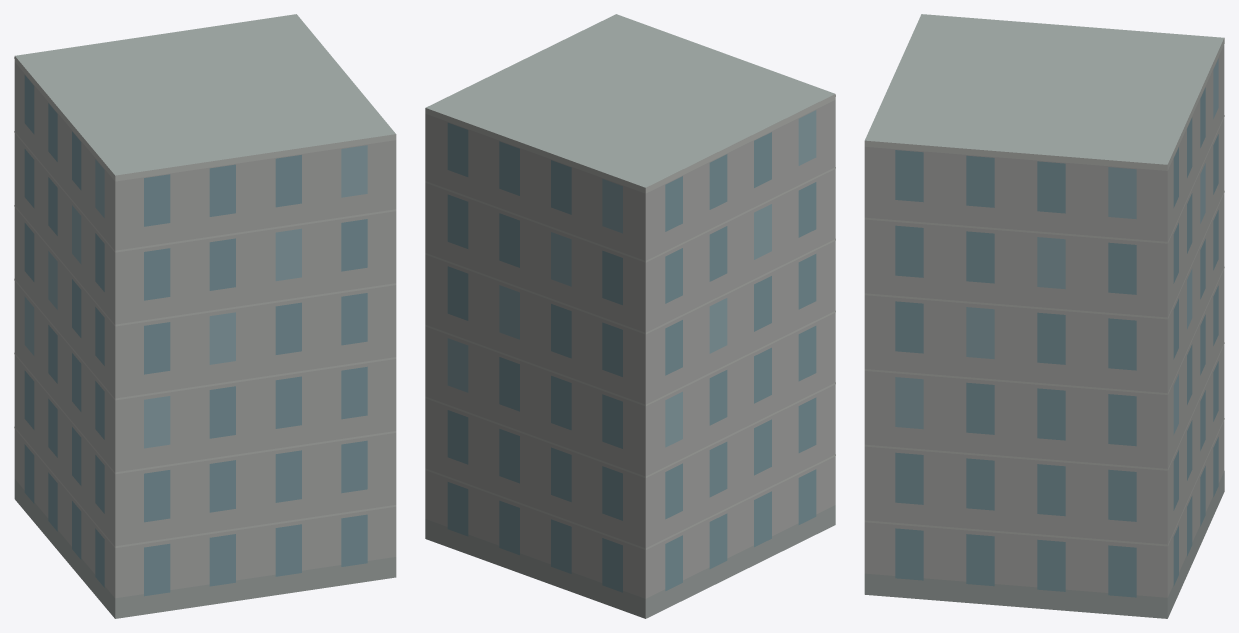
The model's file is survey-upis-32930243.glb.
The picture shows the model from 3 angles, left to right: view 1: azimuth 30°, elevation 25°; view 2: azimuth 150°, elevation 25°; view 3: azimuth 270°, elevation 25°; orthographic projection. The views are drawn at different scales.
Visible parts, largest first — view 1: survey-upis-32930243.tmp; view 2: survey-upis-32930243.tmp; view 3: survey-upis-32930243.tmp.
Part boxes in pixels (x1,y1,x2,y2): survey-upis-32930243.tmp: (14, 14, 396, 618); survey-upis-32930243.tmp: (425, 14, 835, 618); survey-upis-32930243.tmp: (864, 14, 1224, 618).
Size of the model in its own units: 12.88 by 18.05 by 12.99.
